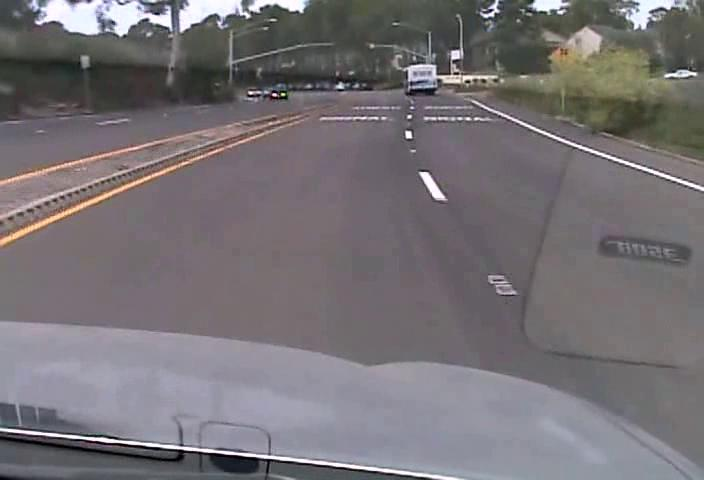signalAhead: (546, 42, 578, 71)
